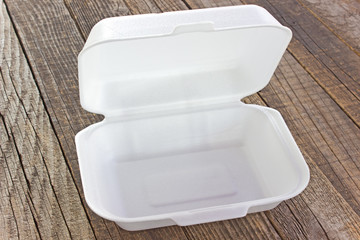styrofoam: (75, 5, 312, 233)
